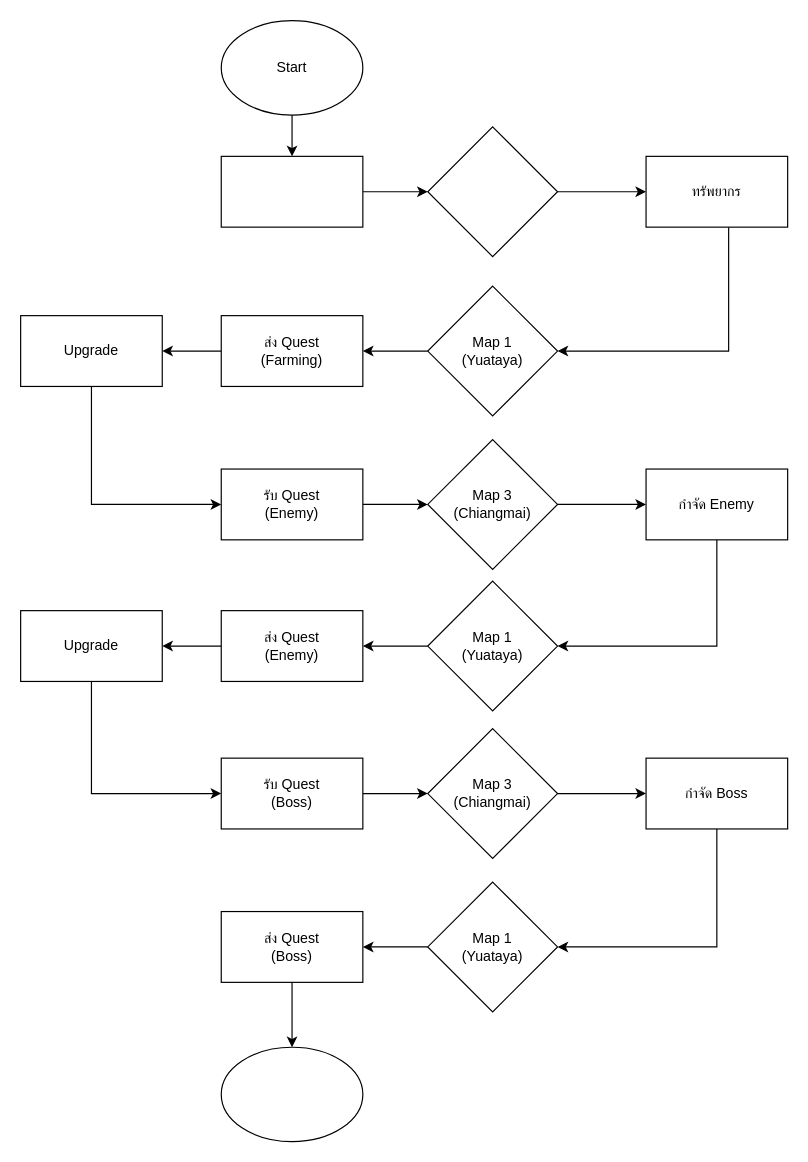
The diagram is 808 pixels wide and 1162 high, and some of its shapes have lost their labels. Each missing label, with the box of its shape:
End: (220, 1046, 363, 1142)
Map 2 (Chiangthong): (427, 126, 558, 257)
รับ Quest (Farming): (220, 155, 363, 227)
